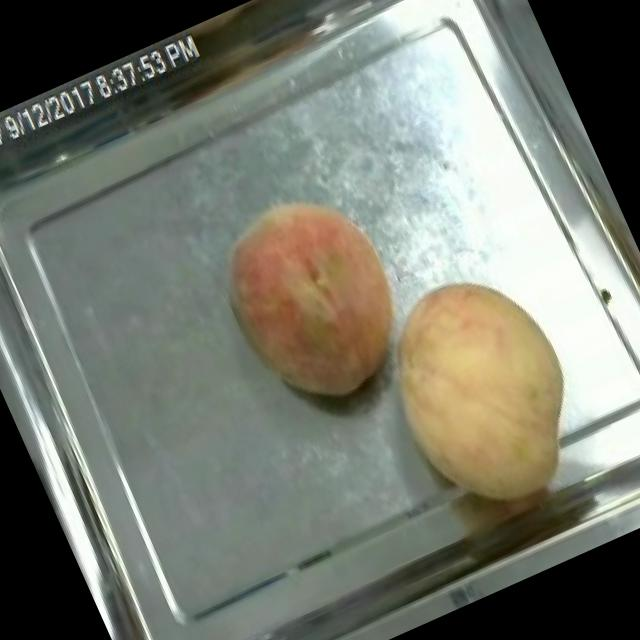Fruit: (350, 246, 618, 538), (192, 166, 436, 430)
